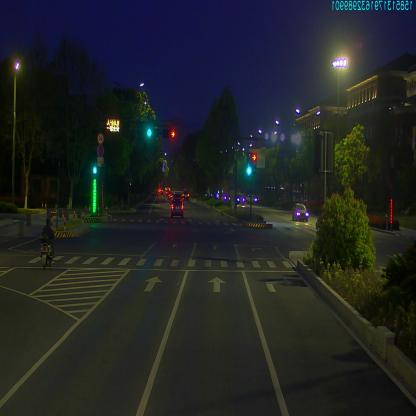traffic-light: (161, 131, 175, 137), (147, 128, 158, 135)
